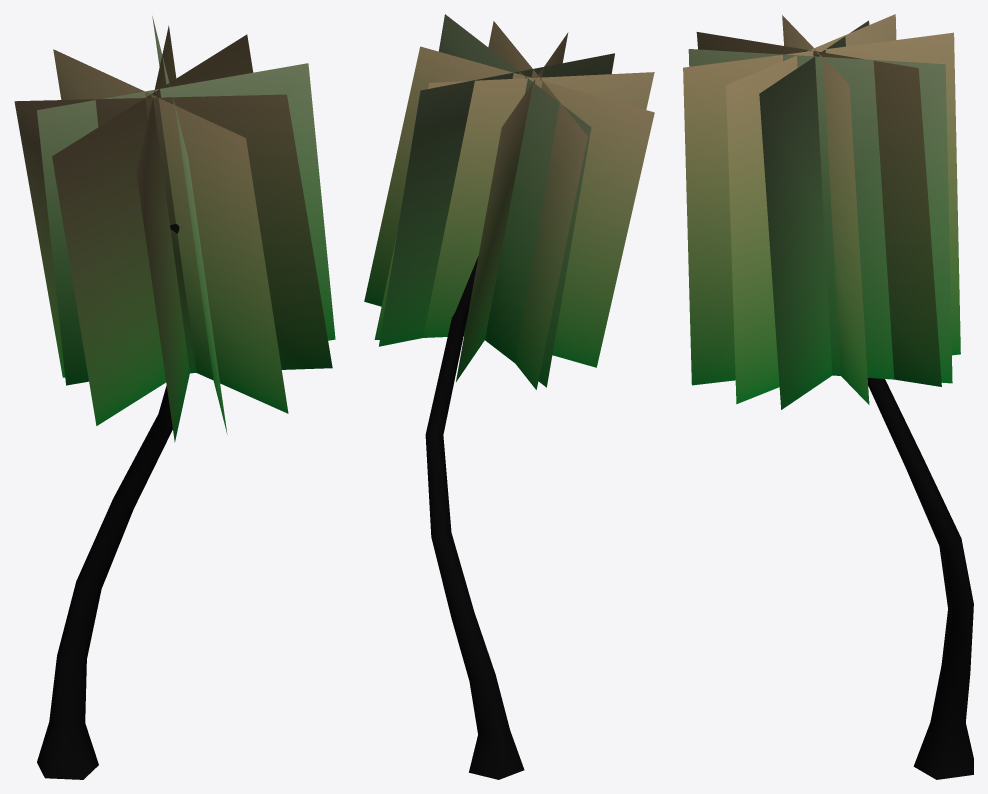
Rendered from Super_Palm_7.fbx.
The picture shows the model from 3 angles, left to right: view 1: azimuth 30°, elevation 25°; view 2: azimuth 150°, elevation 25°; view 3: azimuth 270°, elevation 25°; orthographic projection. The views are drawn at different scales.
Parts seen in each view (by area): view 1: Tree_7; view 2: Tree_7; view 3: Tree_7.
Part boxes in pixels (<box>): Tree_7: <box>14,16,335,779</box>; Tree_7: <box>364,14,654,779</box>; Tree_7: <box>683,14,973,779</box>.
Bounding box in the file's own units: 621 × 1544 × 545.
